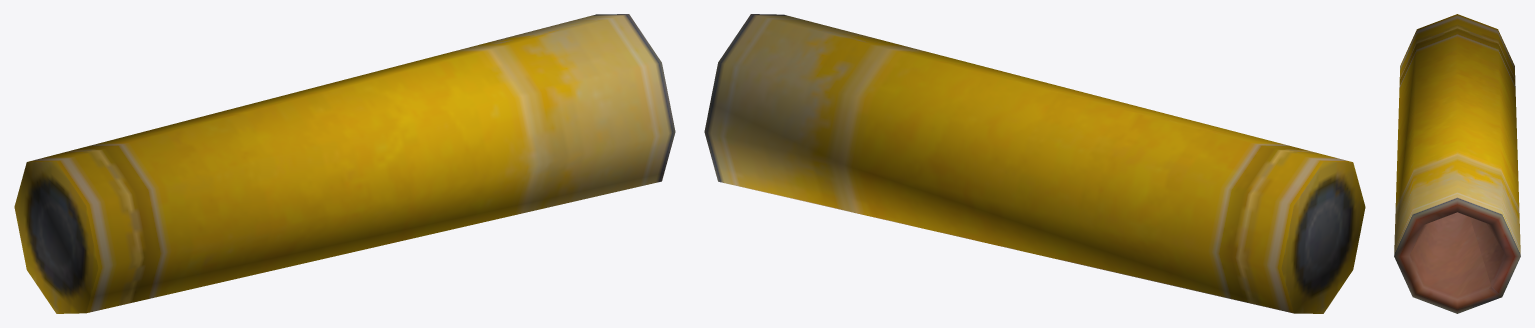
File: ammo.glb
3 views of the same model, side by side, from view 1: azimuth 30°, elevation 25°; view 2: azimuth 150°, elevation 25°; view 3: azimuth 270°, elevation 25° (orthographic). The views are drawn at different scales.
Parts seen in each view (by area): view 1: S_MedAmmo; view 2: S_MedAmmo; view 3: S_MedAmmo.
Part boxes in pixels (bbox=[...]): S_MedAmmo: bbox=[14, 14, 675, 313]; S_MedAmmo: bbox=[704, 14, 1365, 313]; S_MedAmmo: bbox=[1394, 14, 1520, 313].
Size of the model in its own units: 0.074 by 0.0208 by 0.0208.
1 material, 1 textured.
